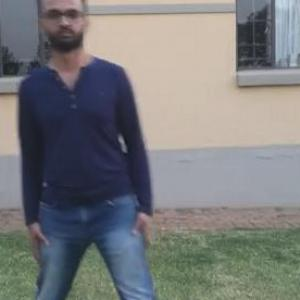follow: (33, 0, 152, 299)
